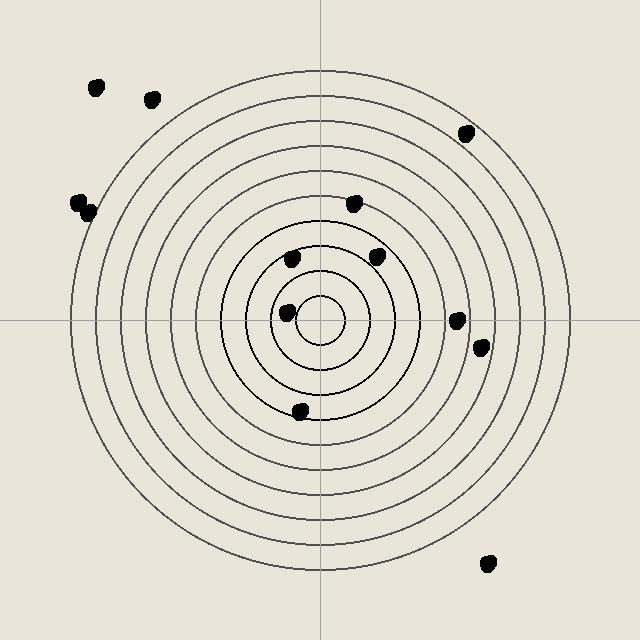random_scatter: (343, 193, 363, 213), (85, 77, 105, 97), (281, 248, 301, 268), (366, 246, 386, 266), (276, 302, 296, 322), (67, 192, 87, 212), (470, 337, 490, 357), (446, 310, 466, 330), (289, 401, 309, 421), (477, 553, 497, 573), (77, 202, 97, 222), (141, 89, 161, 109), (455, 123, 475, 143)
